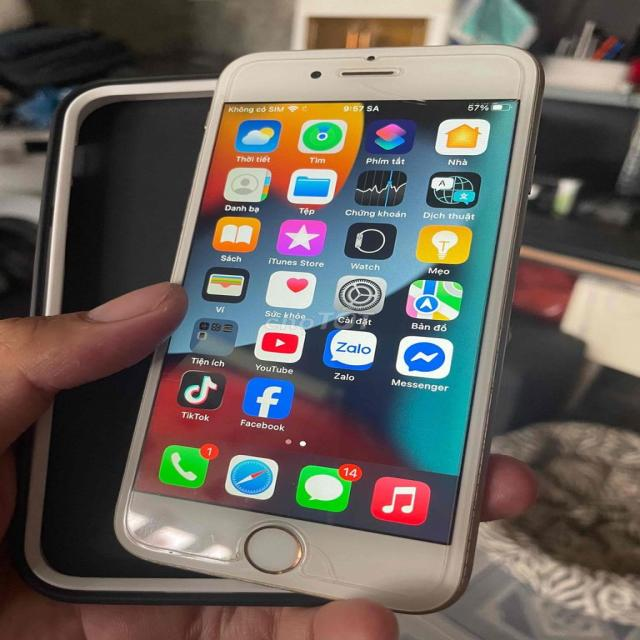screen_defect: (293, 525, 346, 602)
